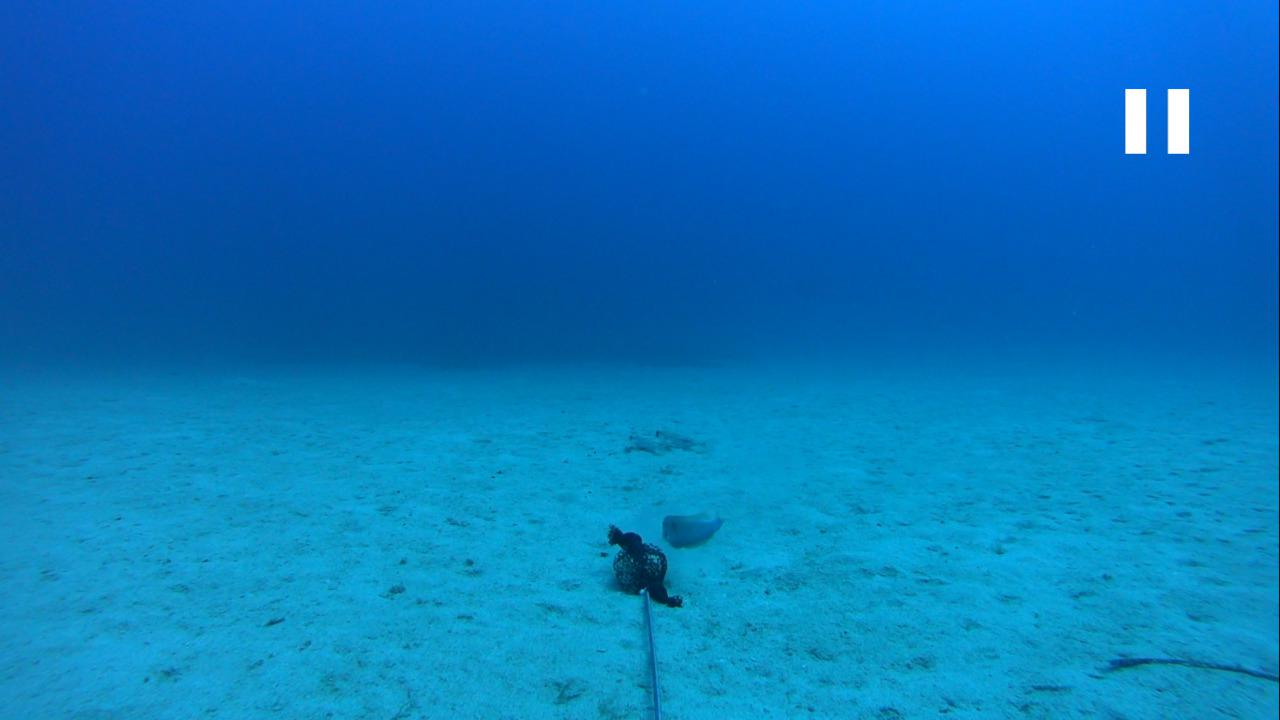dactylopterus: (645, 419, 709, 456), (609, 424, 664, 465)
raor: (655, 506, 730, 550)
